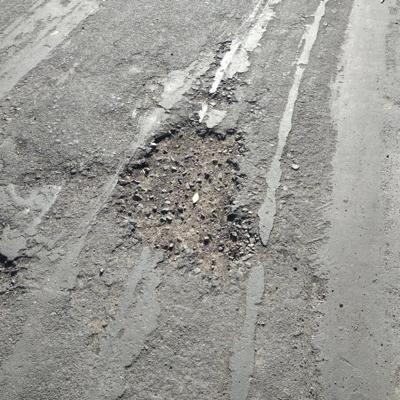pothole: (114, 118, 262, 280)
